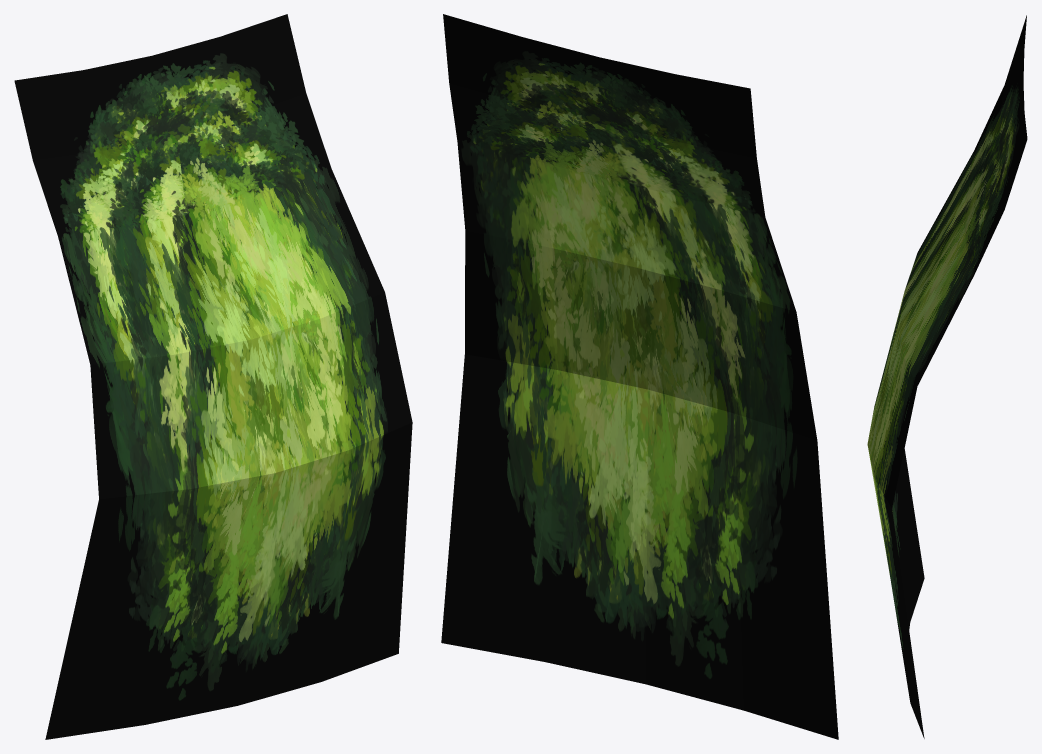
The model's file is hedge fbx freddy will be real.fbx.
The picture shows the model from 3 angles, left to right: view 1: azimuth 30°, elevation 25°; view 2: azimuth 150°, elevation 25°; view 3: azimuth 270°, elevation 25°; orthographic projection. The views are drawn at different scales.
Parts seen in each view (by area): view 1: Plane; view 2: Plane; view 3: Plane.
Part boxes in pixels (x1,y1,x2,y2): Plane: (14, 14, 412, 739); Plane: (441, 14, 838, 739); Plane: (867, 15, 1027, 738).
Bounding box in the file's own units: 259 × 108 × 431.
